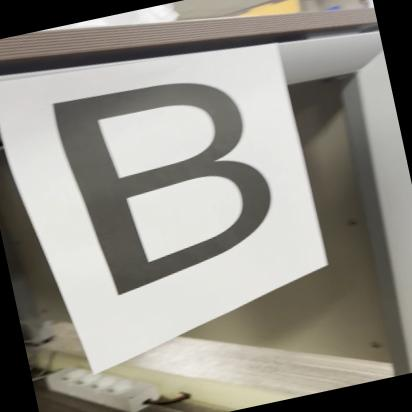seat: (26, 46, 304, 328)
